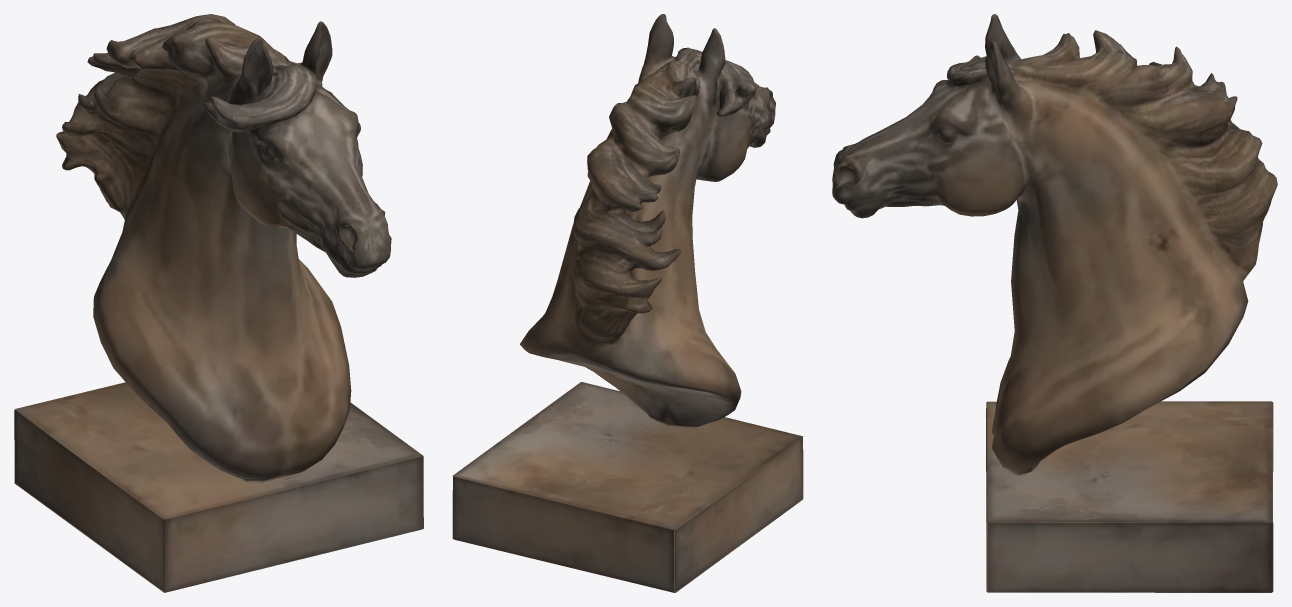
Rendered from horse_head.glb.
The picture shows the model from 3 angles, left to right: view 1: azimuth 30°, elevation 25°; view 2: azimuth 150°, elevation 25°; view 3: azimuth 270°, elevation 25°; orthographic projection. The views are drawn at different scales.
Parts seen in each view (by area): view 1: horse_head; view 2: horse_head; view 3: horse_head.
Part boxes in pixels (x1,y1,x2,y2): horse_head: (14, 14, 423, 592); horse_head: (452, 14, 803, 592); horse_head: (832, 14, 1277, 592).
Bounding box in the file's own units: 0.2153 × 0.4185 × 0.3341.
Materials: 1 (1 with a texture image).
